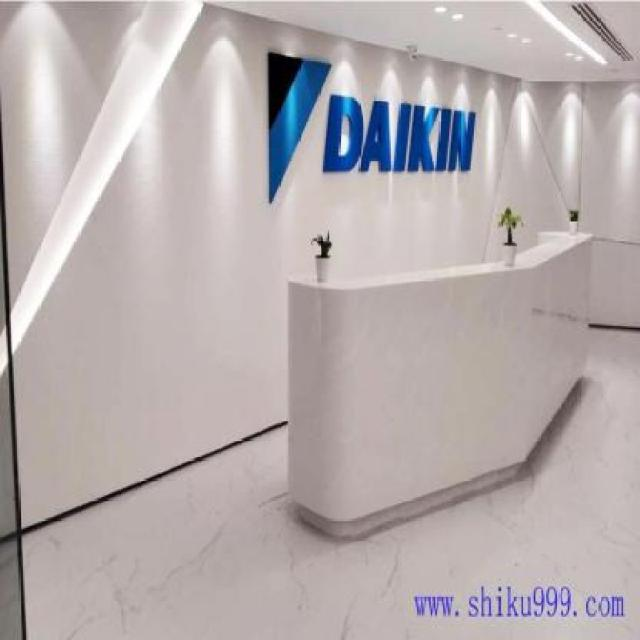frontdesk: (274, 215, 601, 554)
